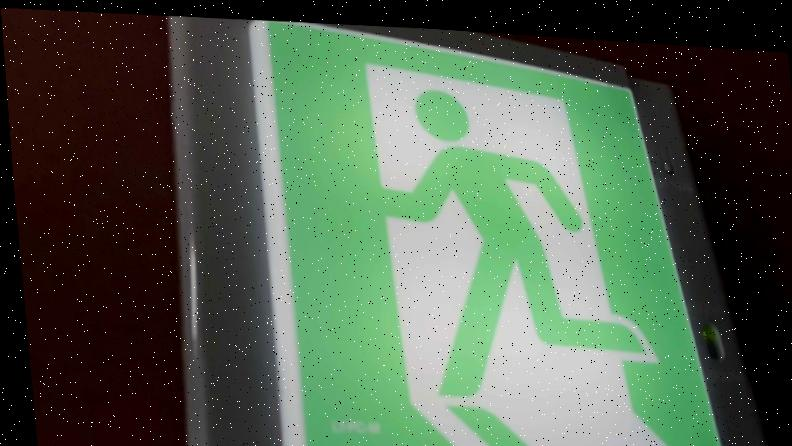emergency_exit: (3, 8, 768, 445), (253, 20, 731, 445)
